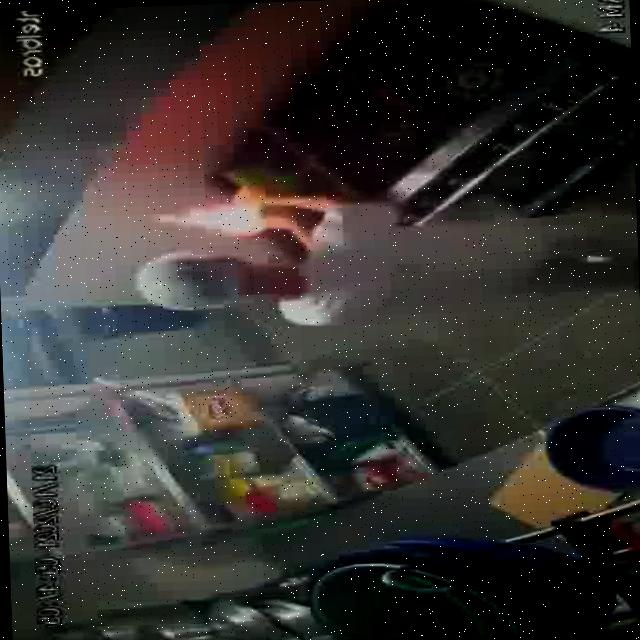fire: (162, 196, 266, 241)
